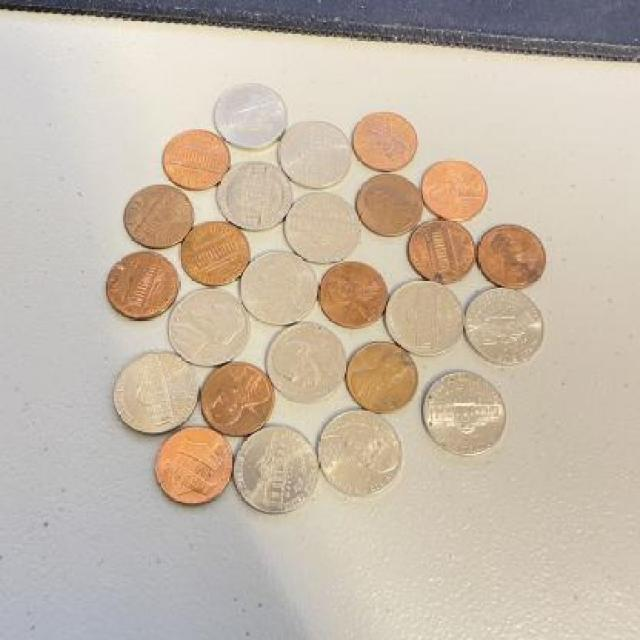Nickel: (231, 424, 315, 524), (422, 369, 512, 460), (318, 411, 408, 502), (112, 349, 200, 437), (268, 318, 350, 408), (464, 283, 546, 368), (384, 278, 460, 366), (236, 246, 316, 328), (168, 285, 249, 363), (283, 191, 365, 266), (216, 160, 296, 236), (275, 119, 357, 190), (212, 80, 290, 149)
Penny: (157, 422, 237, 512), (343, 336, 422, 418), (197, 360, 277, 437), (105, 249, 182, 320), (355, 170, 428, 243), (314, 258, 389, 328), (121, 182, 196, 250), (177, 222, 252, 286), (406, 217, 477, 283), (476, 220, 544, 288), (420, 157, 488, 225), (162, 126, 232, 192), (351, 110, 418, 172)
